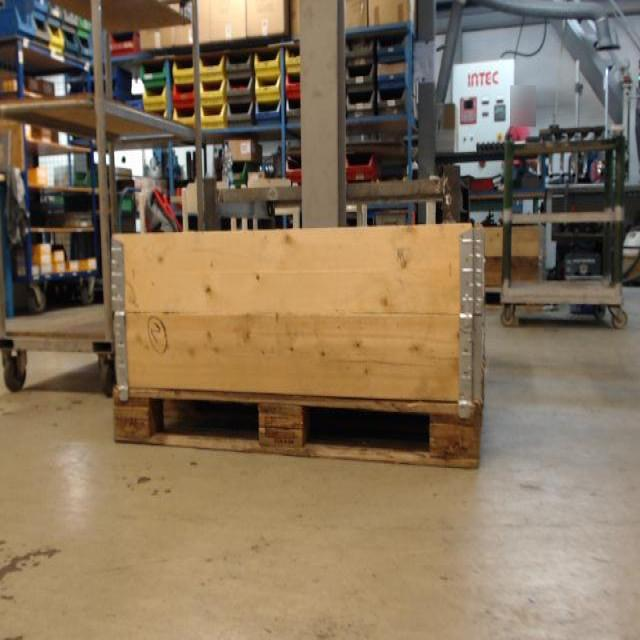pallet: (110, 385, 483, 472), (483, 286, 542, 311)
